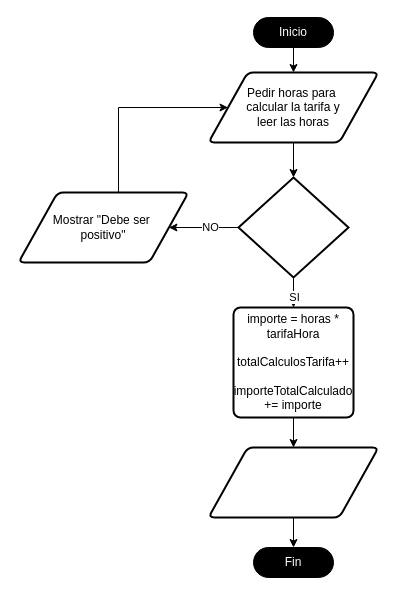
This 396x595 diagram has some shape labels left out. The centre of each missing label's shape, as x and y in pixels:
Horas > 0: (293,227)
Mostrar "importe: " +importe+ "euros": (293,482)
